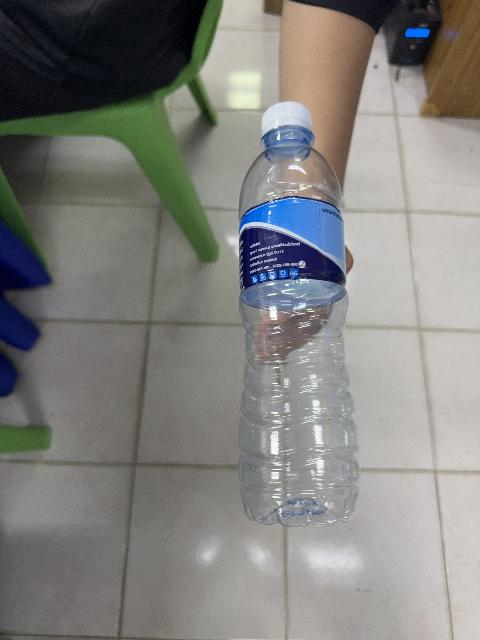bottle: (239, 103, 358, 526)
